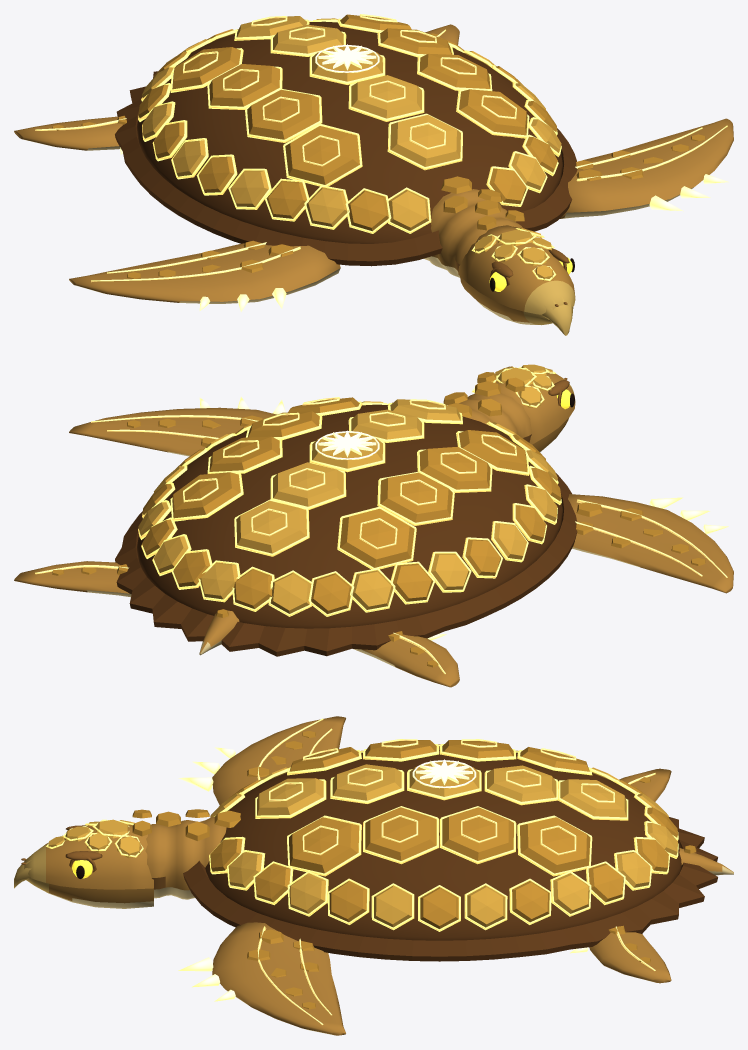
The model's file is kimquy.glb.
The picture shows the model from 3 angles, top to bottom: view 1: azimuth 30°, elevation 25°; view 2: azimuth 150°, elevation 25°; view 3: azimuth 270°, elevation 25°; orthographic projection.
Visible parts, largest first — view 1: BODY, FIN_FL, FIN_FR, HEAD, NECK, FIN_BL, JAW; view 2: BODY, FIN_FL, FIN_FR, HEAD, NECK, FIN_BL, FIN_BR, TAIL; view 3: BODY, FIN_FR, HEAD, NECK, FIN_FL, FIN_BR, JAW, FIN_BL, TAIL.
Boxes of the visible parts, box(x1,y1,x2,y2) form: BODY: box(115, 14, 577, 266); FIN_FL: box(69, 240, 340, 311); FIN_FR: box(560, 118, 733, 218); HEAD: box(458, 225, 575, 335); NECK: box(424, 176, 524, 277); FIN_BL: box(14, 115, 126, 154); JAW: box(460, 276, 552, 325); BODY: box(115, 397, 577, 656); FIN_FL: box(568, 494, 733, 593); FIN_FR: box(69, 396, 285, 456); HEAD: box(472, 364, 575, 444); NECK: box(443, 372, 531, 442); FIN_BL: box(353, 631, 459, 687); FIN_BR: box(14, 561, 131, 597); TAIL: box(199, 609, 239, 655); BODY: box(183, 739, 717, 961); FIN_FR: box(178, 922, 345, 1035); HEAD: box(14, 819, 153, 889); NECK: box(132, 809, 240, 899); FIN_FL: box(178, 716, 345, 805); FIN_BR: box(570, 925, 671, 983); JAW: box(26, 878, 153, 908); FIN_BL: box(619, 768, 671, 801); TAIL: box(679, 845, 733, 875).
Bounding box in the file's own units: 128 × 25.3 × 124.
